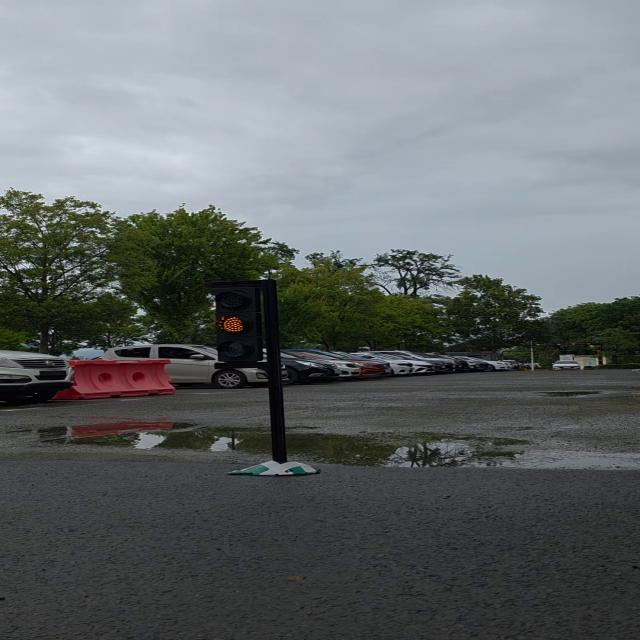yellow: (206, 278, 284, 369)
